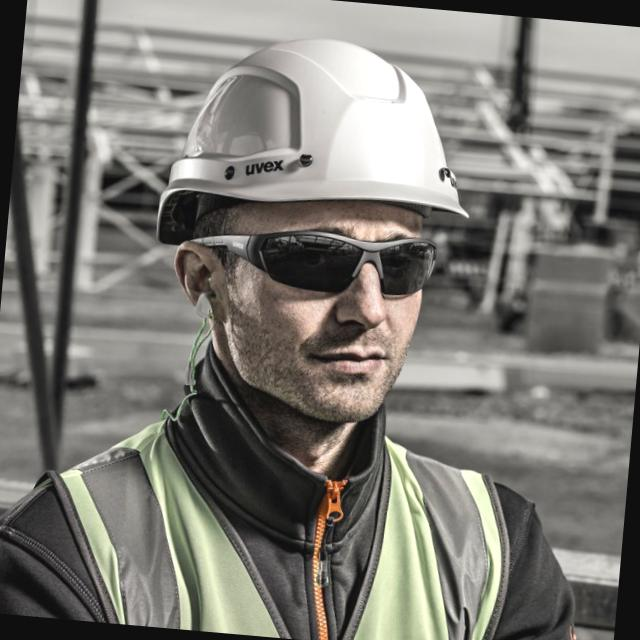goggles: (159, 216, 450, 354)
helmet: (158, 18, 510, 250)
vest: (21, 375, 568, 640)
